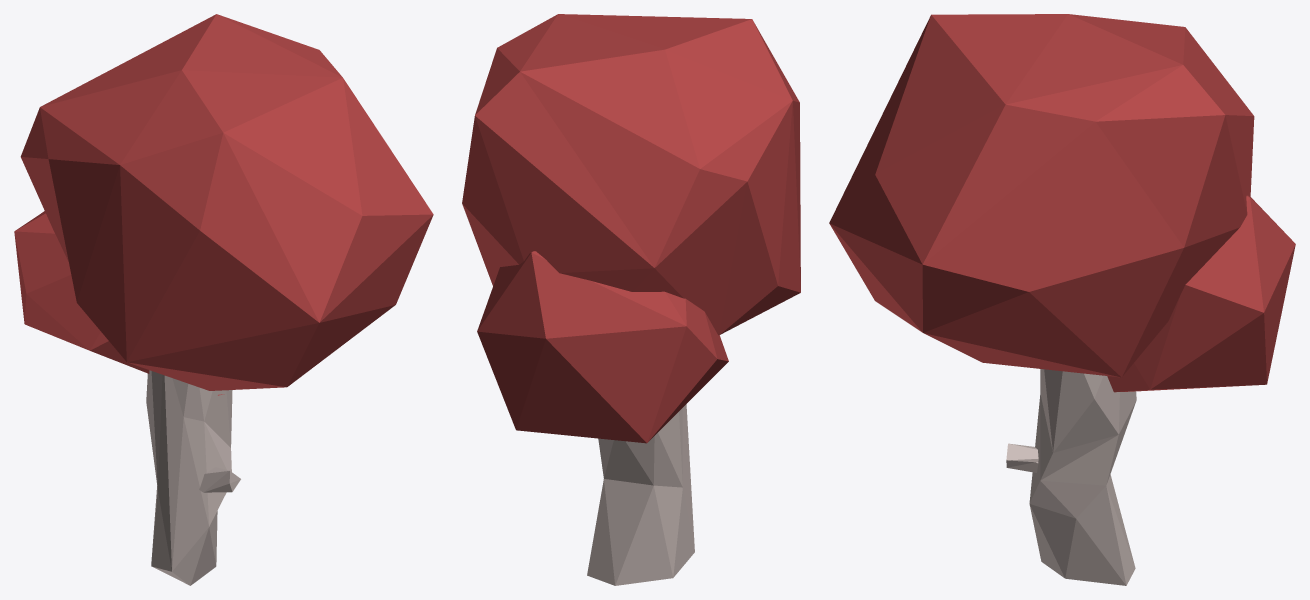
Rendered from AspenLP2.fbx.
The picture shows the model from 3 angles, left to right: view 1: azimuth 30°, elevation 25°; view 2: azimuth 150°, elevation 25°; view 3: azimuth 270°, elevation 25°; orthographic projection. The views are drawn at different scales.
Visible parts, largest first — view 1: polySurface41; view 2: polySurface41; view 3: polySurface41.
Boxes of the visible parts, bbox=[...] form: polySurface41: bbox=[14, 14, 433, 585]; polySurface41: bbox=[462, 14, 800, 585]; polySurface41: bbox=[829, 14, 1295, 585].
Bounding box in the file's own units: 20.54 × 31.94 × 24.58.
